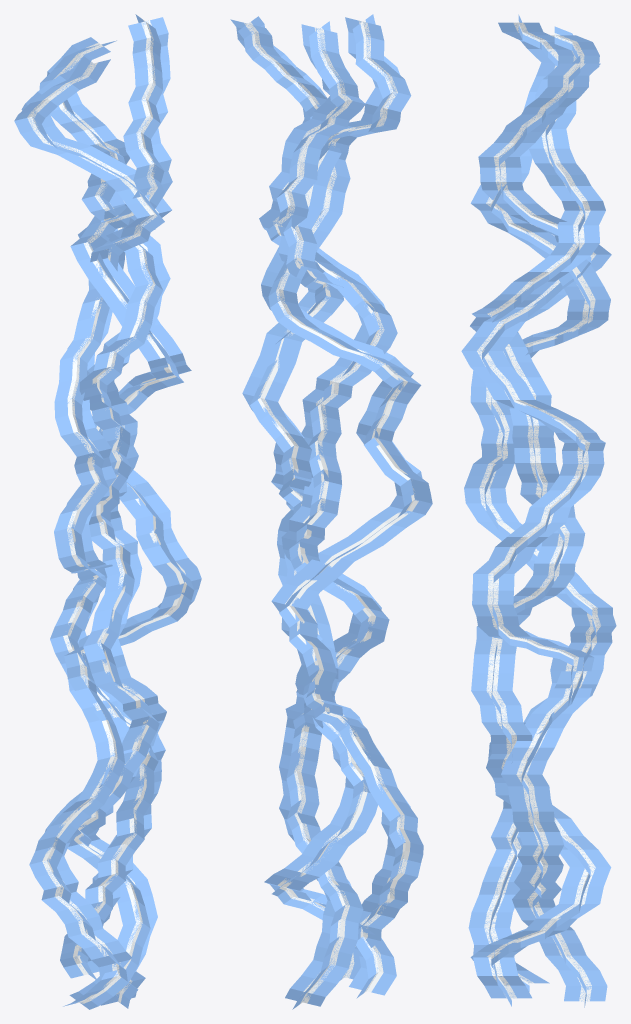
Rendered from spektr_bolt_2.glb.
The picture shows the model from 3 angles, left to right: view 1: azimuth 30°, elevation 25°; view 2: azimuth 150°, elevation 25°; view 3: azimuth 270°, elevation 25°; orthographic projection. The views are drawn at different scales.
Bounding box in the file's own units: 0.6461 × 3.6 × 0.5248.
